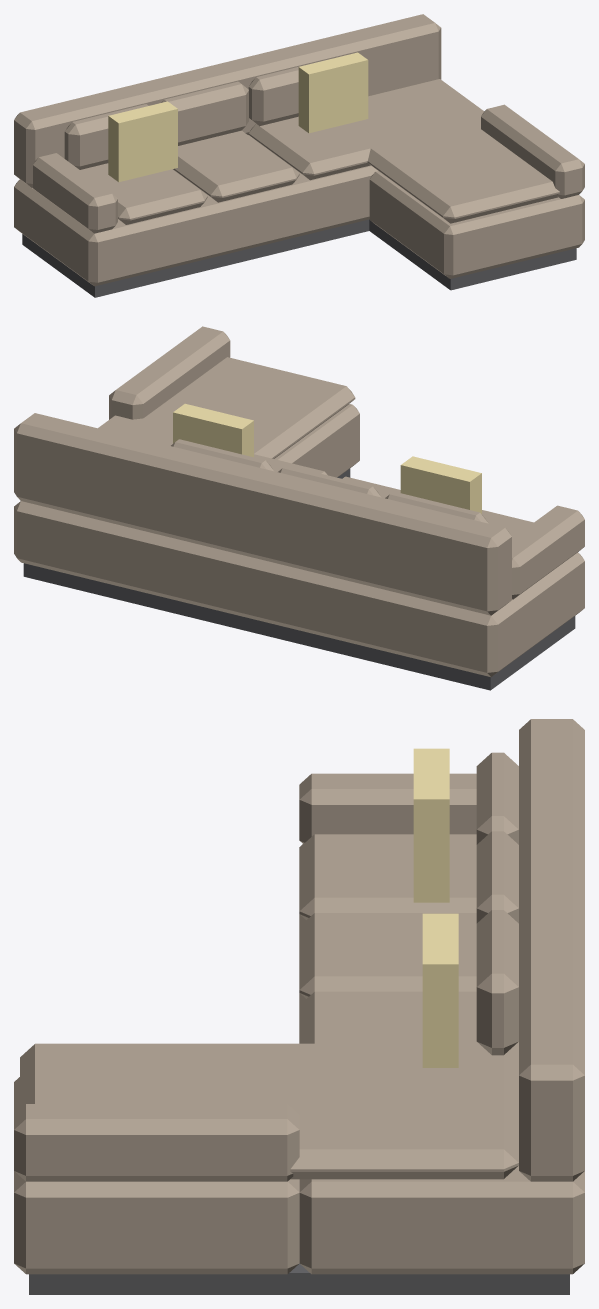
File: sofa_a.glb
3 renders of one model, top to bottom at view 1: azimuth 30°, elevation 25°; view 2: azimuth 150°, elevation 25°; view 3: azimuth 270°, elevation 25°, orthographic. The views are drawn at different scales.
Visible parts, largest first — view 1: sofa_a_fabric, sofa_a_cloth_y, sofa_a_dark; view 2: sofa_a_fabric, sofa_a_dark, sofa_a_cloth_y; view 3: sofa_a_fabric, sofa_a_dark, sofa_a_cloth_y.
Boxes of the visible parts, bbox=[...] form: sofa_a_fabric: bbox=[14, 14, 584, 286]; sofa_a_cloth_y: bbox=[108, 52, 368, 182]; sofa_a_dark: bbox=[22, 219, 576, 297]; sofa_a_fabric: bbox=[14, 326, 584, 676]; sofa_a_dark: bbox=[23, 468, 575, 690]; sofa_a_cloth_y: bbox=[173, 403, 481, 513]; sofa_a_fabric: bbox=[14, 719, 584, 1274]; sofa_a_dark: bbox=[29, 1263, 569, 1294]; sofa_a_cloth_y: bbox=[413, 748, 458, 1067].
Bounding box in the file's own units: 2.8 × 0.91 × 1.9.
